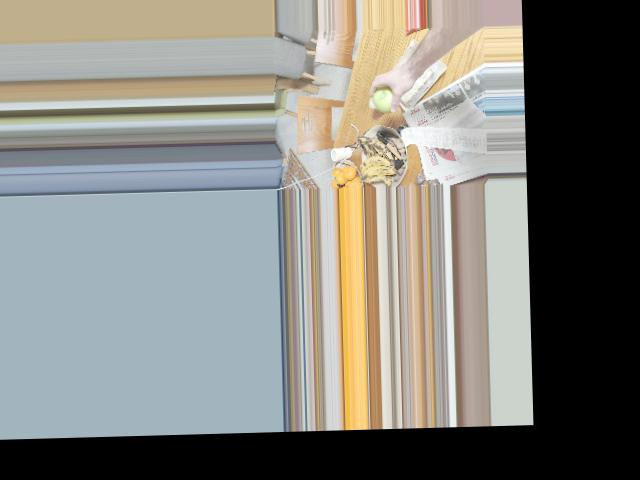apple: (371, 80, 402, 114)
